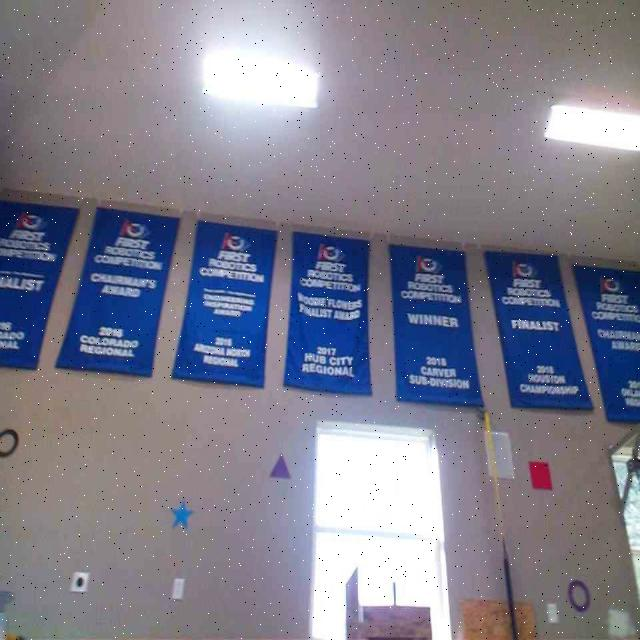ring_black: (0, 427, 20, 458)
ring_purple: (566, 578, 590, 612)
square_red: (527, 459, 552, 489)
star_blue: (168, 496, 195, 529)
triangle_purple: (267, 454, 292, 478)
